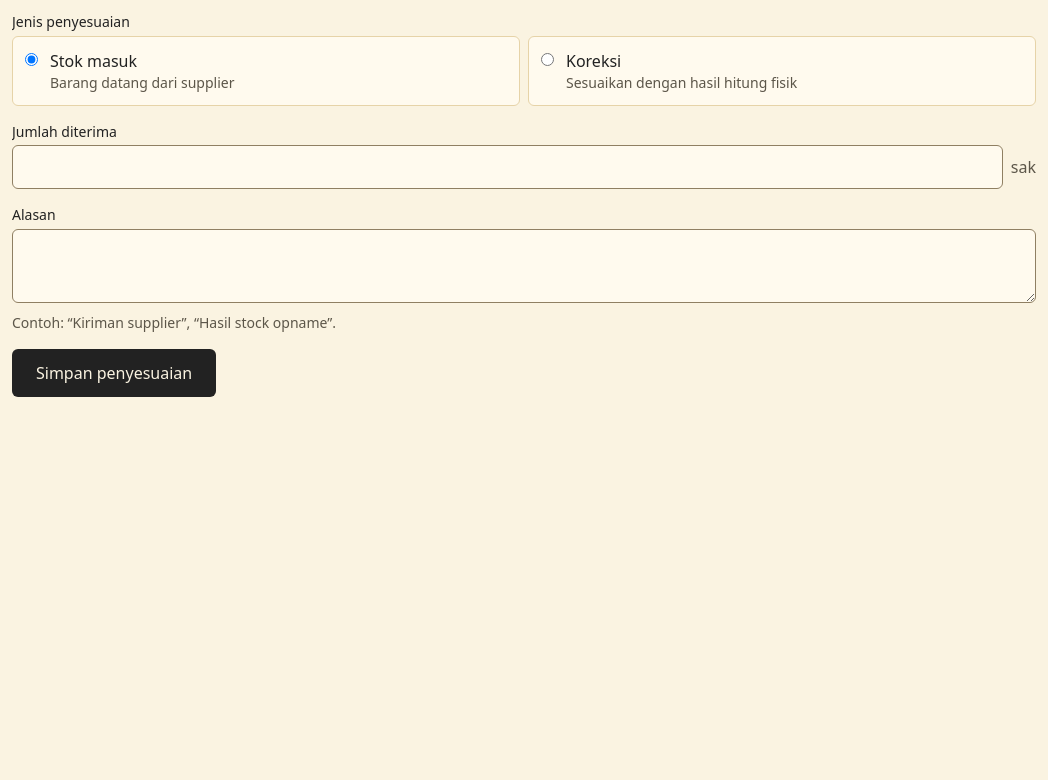
Test case: AdjustStockForm › sukses: toast stok baru, field kosong, tombol "Tersimpan"
Type "7" into the field labelled "Jumlah diterima".
click(507, 167); type("7")  # box [12, 145, 1003, 189]
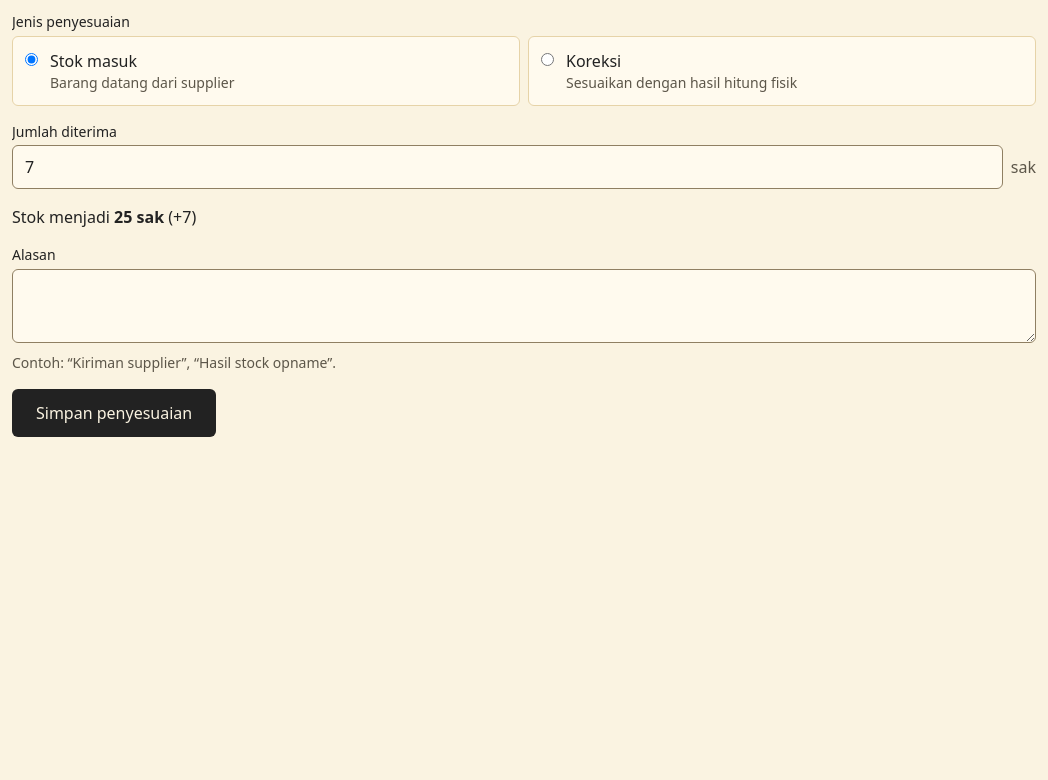
Type "Kiriman supplier" into the text box labelled "Alasan".
click(524, 306); type("Kiriman supplier")  # box [12, 268, 1036, 342]
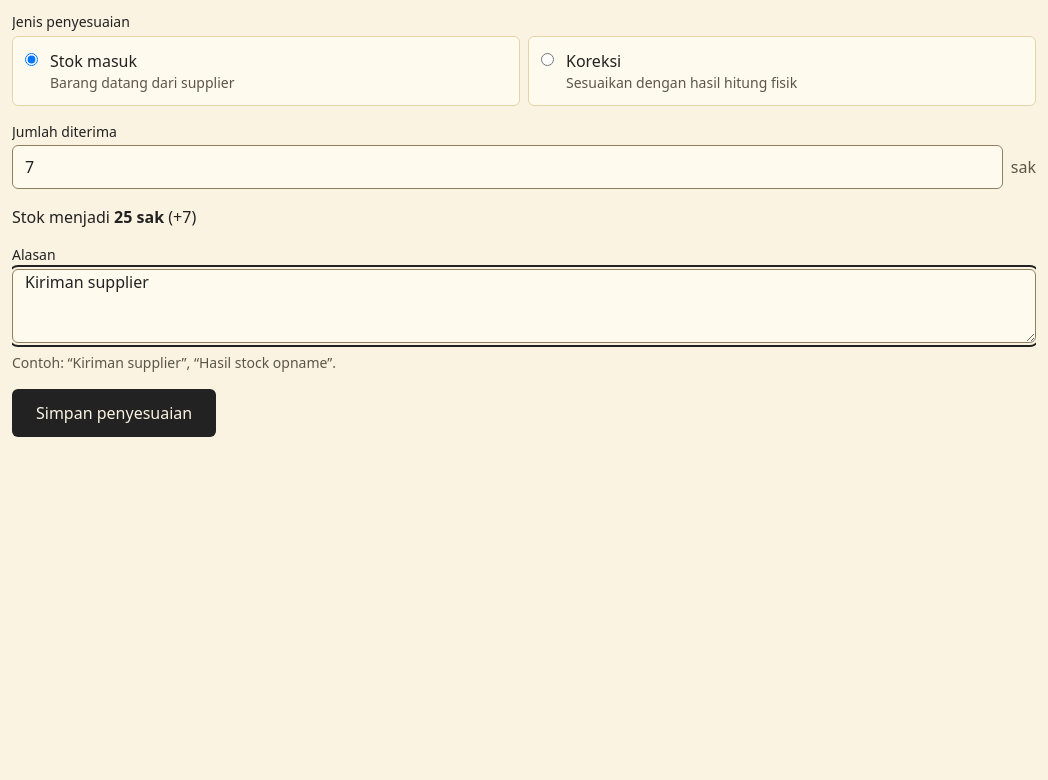
Click the button "Simpan penyesuaian".
click(114, 412)  # box [12, 388, 216, 436]
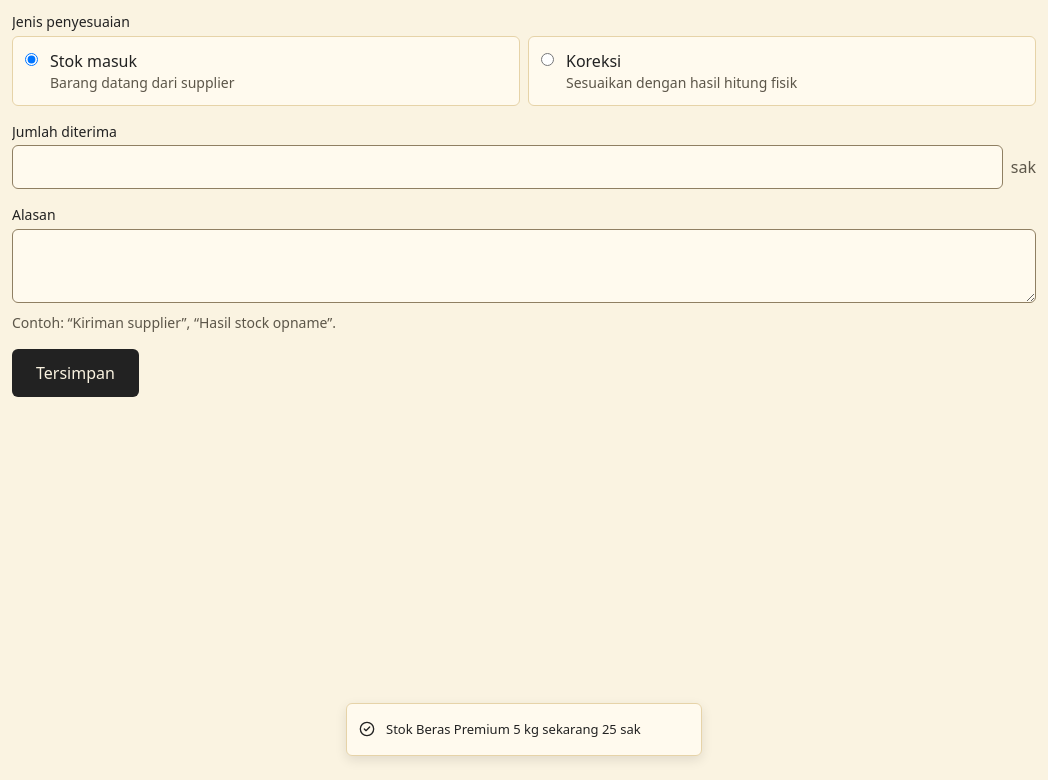
Expected: the text "Stok Beras Premium 5 kg sekarang 25 sak" is shown, [386, 720, 641, 739]
Expected: the field labelled "Jumlah diterima" is empty, [12, 145, 1003, 189]
Expected: the text box labelled "Alasan" is empty, [12, 228, 1036, 302]
